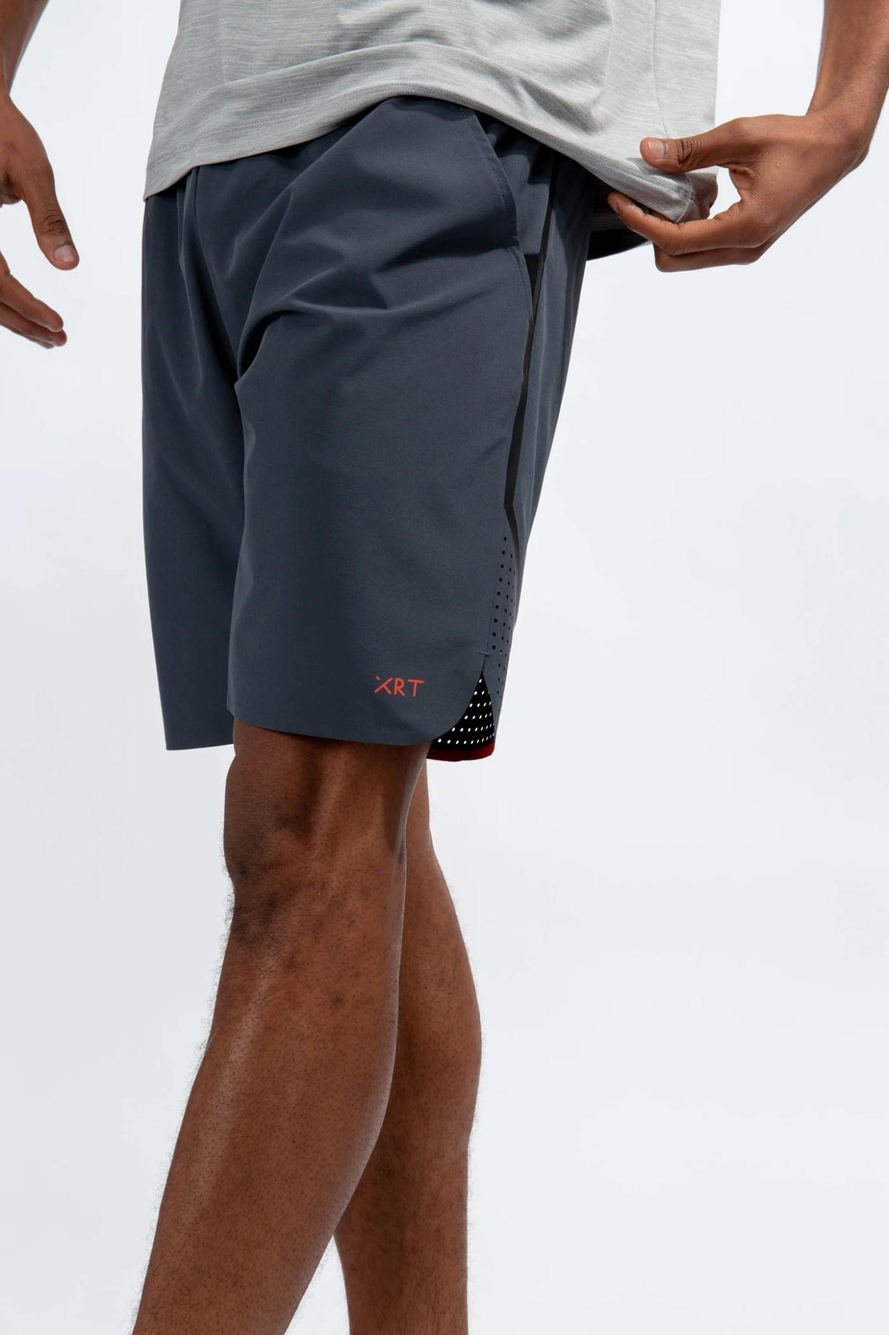Shorts: (131, 96, 595, 762)
short sleeve shirt: (138, 0, 732, 261)
